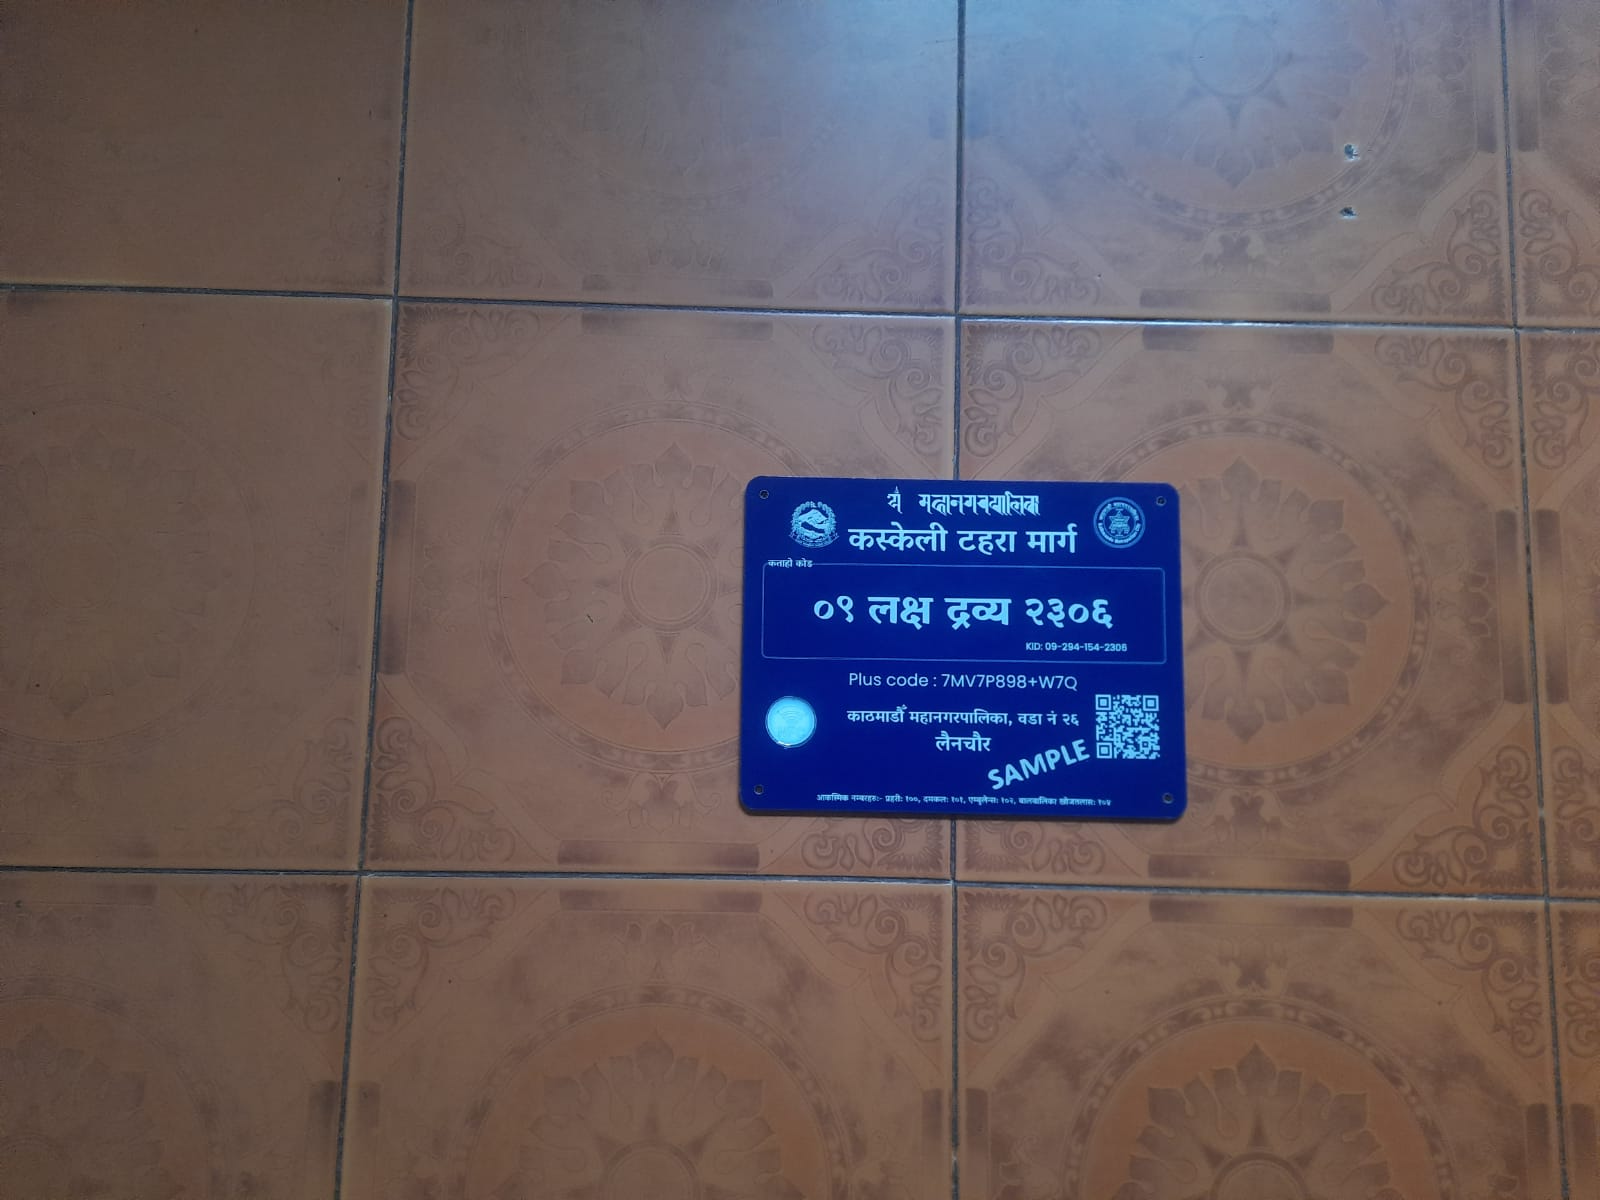Plate: (737, 466, 1194, 829)
